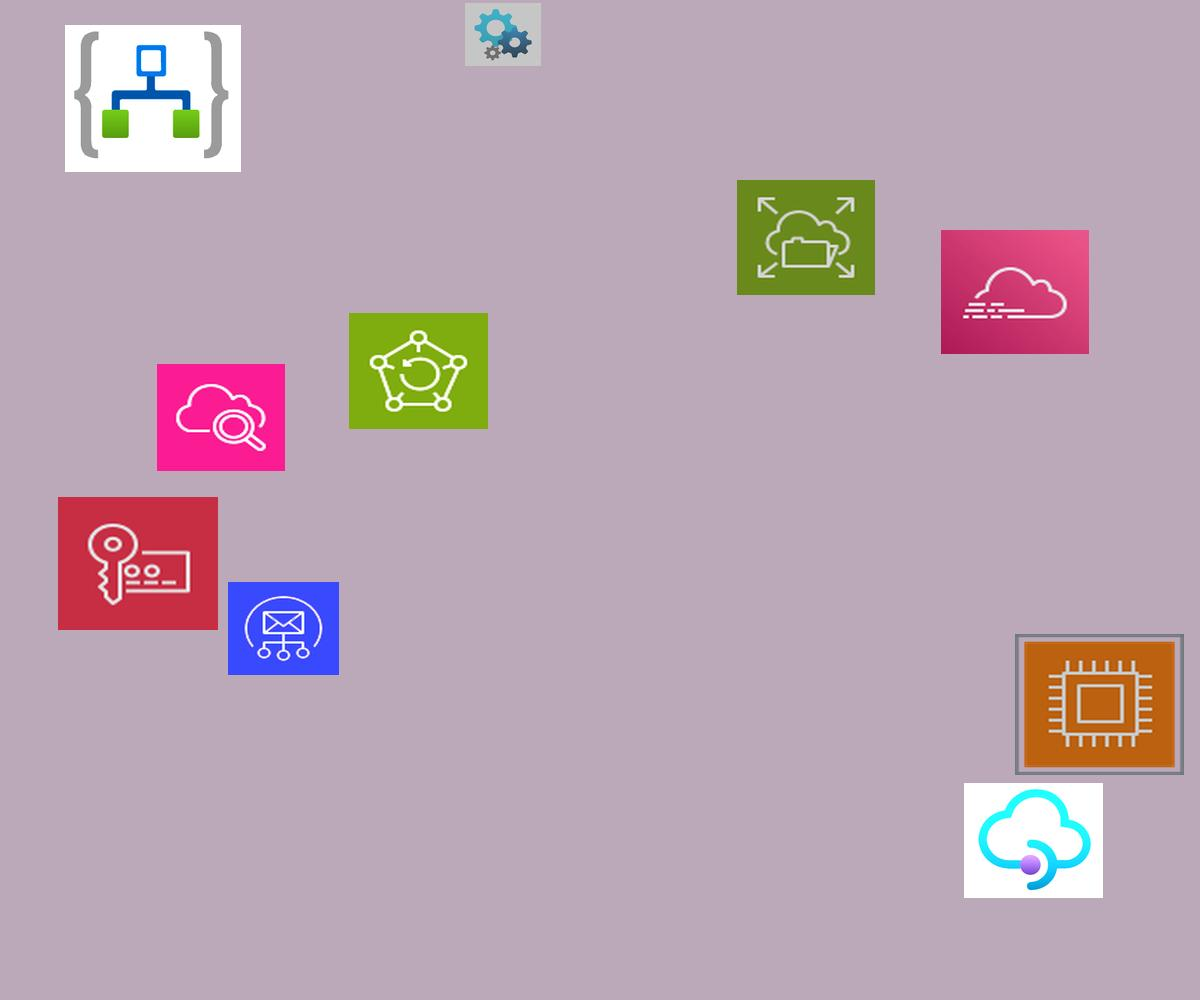AWS-Backup: (349, 313, 488, 429)
AWS-Category_Compute: (1015, 634, 1184, 775)
AWS-CloudTrail: (941, 230, 1089, 354)
AWS-CloudWatch: (157, 364, 285, 471)
AWS-EFS: (737, 180, 875, 295)
AWS-Key-Management-Service: (58, 497, 218, 630)
AWS-Simple-Email-Service: (228, 582, 339, 675)
Azure_api: (465, 3, 541, 66)
Azure_api_gateway: (964, 783, 1103, 898)
Azure_integration-204-Logic-Apps: (65, 25, 241, 172)
